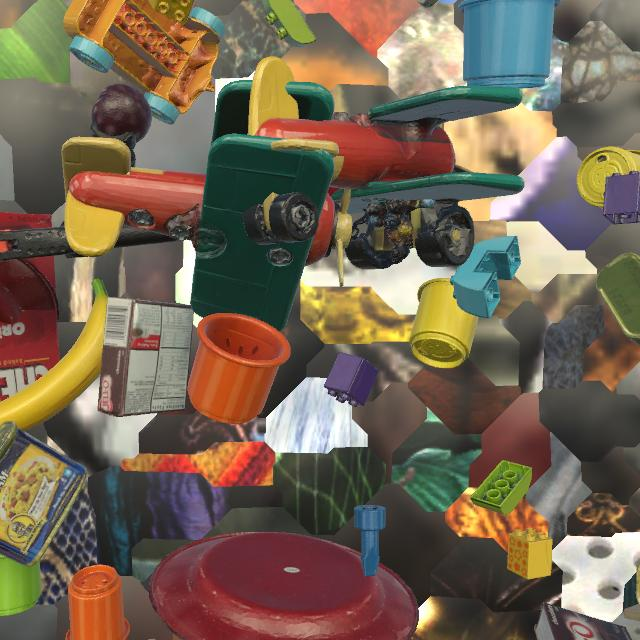ycb_003_cracker_box: (0, 212, 61, 414)
ycb_008_pudding_box: (97, 297, 194, 417), (534, 602, 632, 640)
ycb_010_potted_meat_can: (0, 421, 87, 567), (596, 253, 640, 346), (636, 563, 640, 605)
ycb_011_banana: (0, 278, 108, 432)
ycb_013_apple: (328, 187, 340, 202)
ycb_018_plum: (91, 84, 152, 143)
